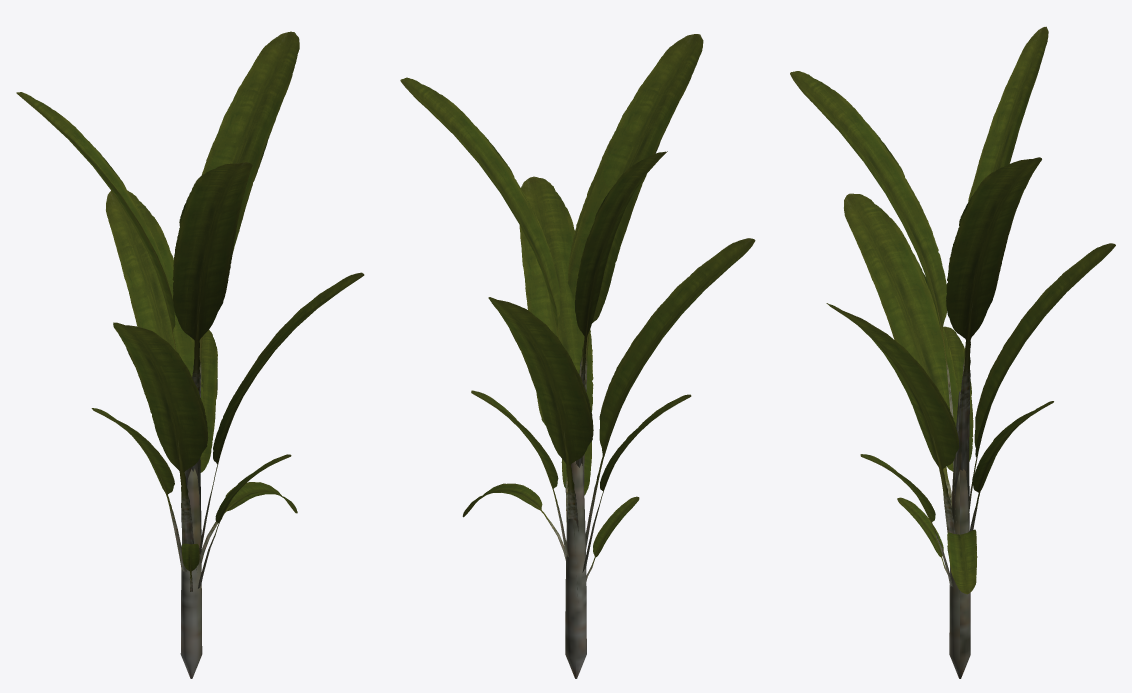
File: PalmPlant_Single.FBX
The picture shows the model from 3 angles, left to right: view 1: azimuth 30°, elevation 25°; view 2: azimuth 150°, elevation 25°; view 3: azimuth 270°, elevation 25°; orthographic projection.
Parts seen in each view (by area): view 1: PalmPlant_LOD0, PalmPlant_LOD0_backface, PalmPalntTrunck_LOD0; view 2: PalmPlant_LOD0, PalmPlant_LOD0_backface, PalmPalntTrunck_LOD0; view 3: PalmPlant_LOD0, PalmPlant_LOD0_backface, PalmPalntTrunck_LOD0.
Part boxes in pixels (bbox=[...]): PalmPlant_LOD0: bbox=[16, 31, 364, 591]; PalmPlant_LOD0_backface: bbox=[19, 32, 363, 590]; PalmPalntTrunck_LOD0: bbox=[180, 468, 202, 678]; PalmPlant_LOD0: bbox=[400, 34, 755, 602]; PalmPlant_LOD0_backface: bbox=[401, 35, 754, 574]; PalmPalntTrunck_LOD0: bbox=[565, 461, 586, 678]; PalmPlant_LOD0: bbox=[790, 26, 1115, 600]; PalmPlant_LOD0_backface: bbox=[791, 27, 1114, 592]; PalmPalntTrunck_LOD0: bbox=[949, 391, 970, 678].
Bounding box in the file's own units: 100 × 200 × 101.
1 material, 1 textured.
